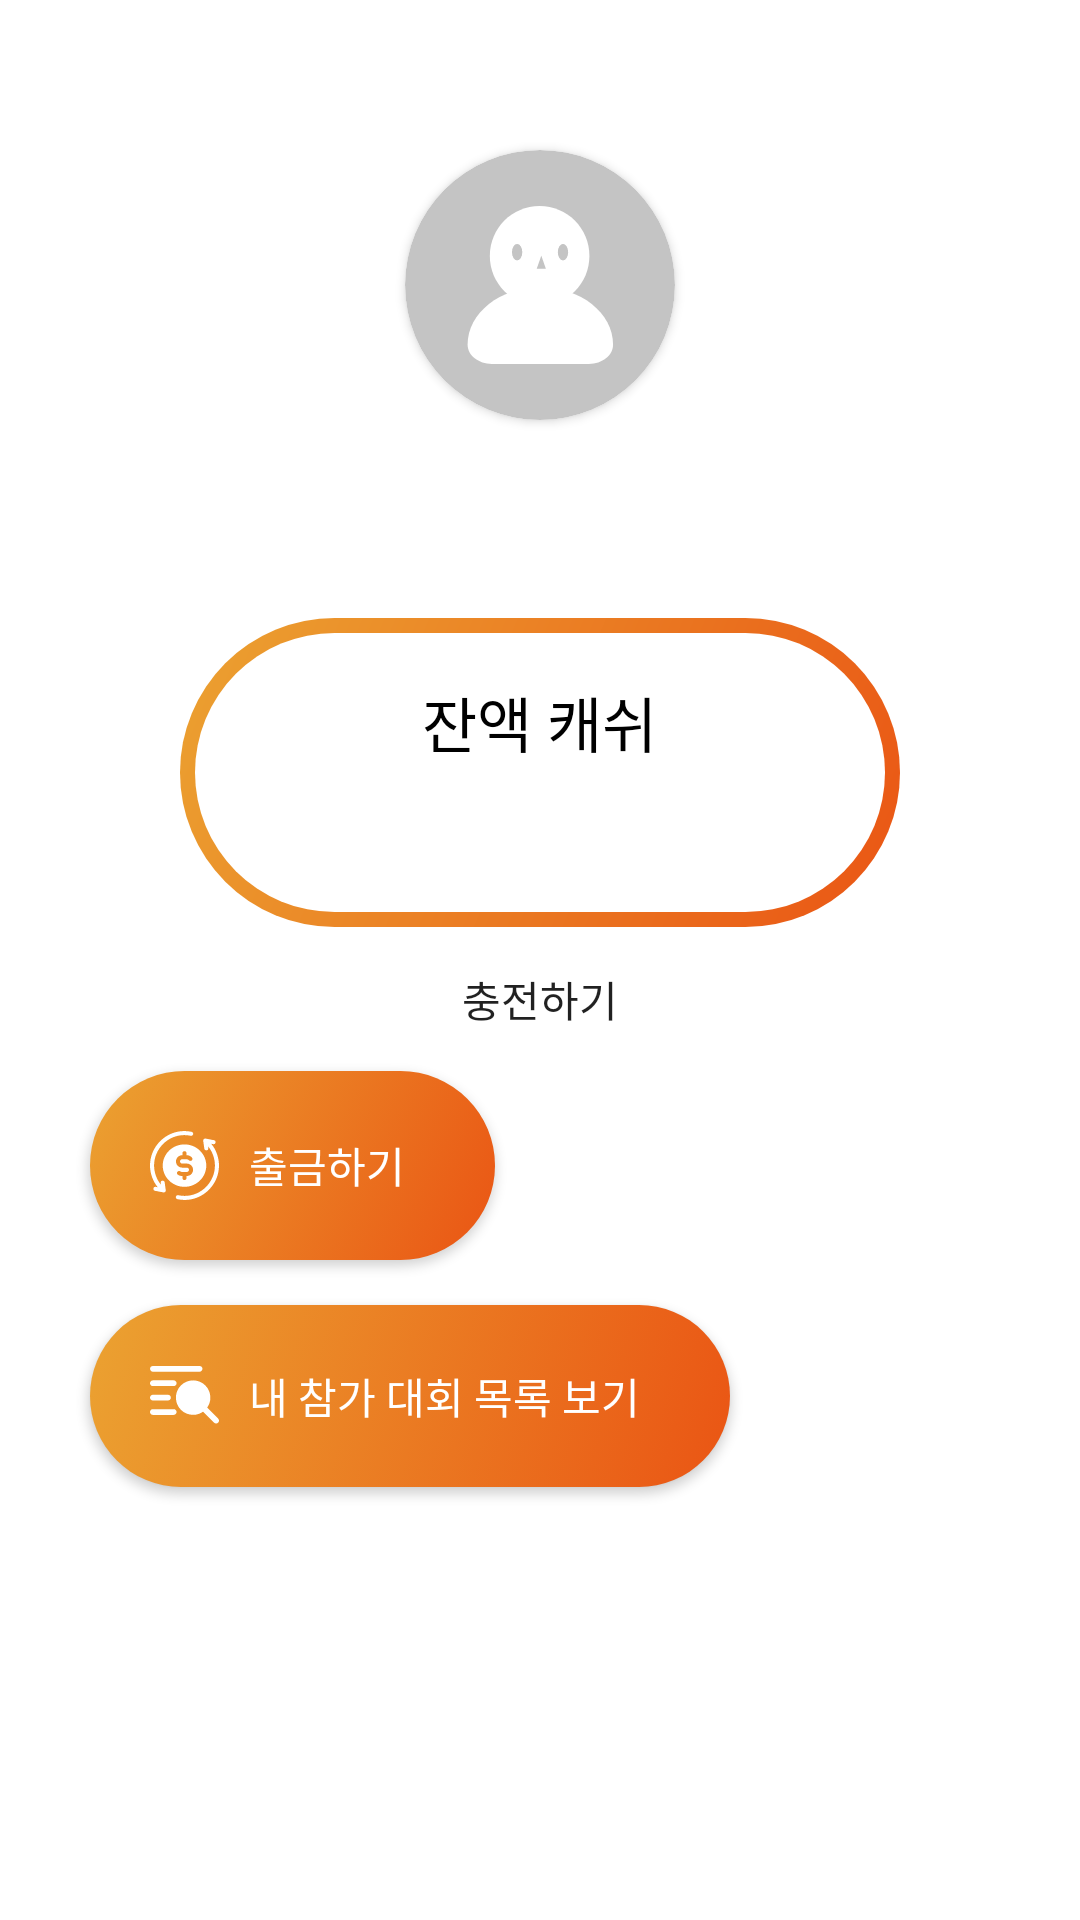

Icon bounding boxes for this 1080px×1920px phone screenshot, format (x1, y1, x2, y2):
profile: (405, 150, 675, 420)
